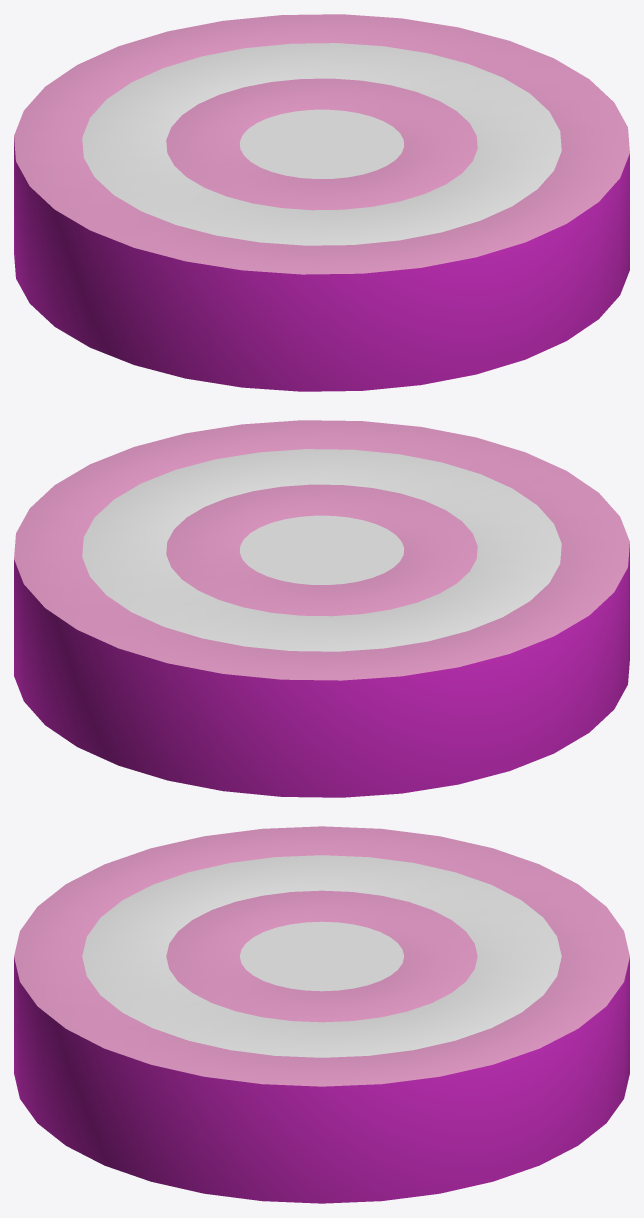
File: Cricle_Platform_1.fbx
The picture shows the model from 3 angles, top to bottom: view 1: azimuth 30°, elevation 25°; view 2: azimuth 150°, elevation 25°; view 3: azimuth 270°, elevation 25°; orthographic projection.
Visible parts, largest first — view 1: Cricle_Platform_1; view 2: Cricle_Platform_1; view 3: Cricle_Platform_1.
Boxes of the visible parts, left/top/right/bottom form: Cricle_Platform_1: left=14, top=14, right=629, bottom=391; Cricle_Platform_1: left=14, top=420, right=629, bottom=797; Cricle_Platform_1: left=14, top=826, right=629, bottom=1203.
Size of the model in its own units: 3293 by 690 by 3293.
